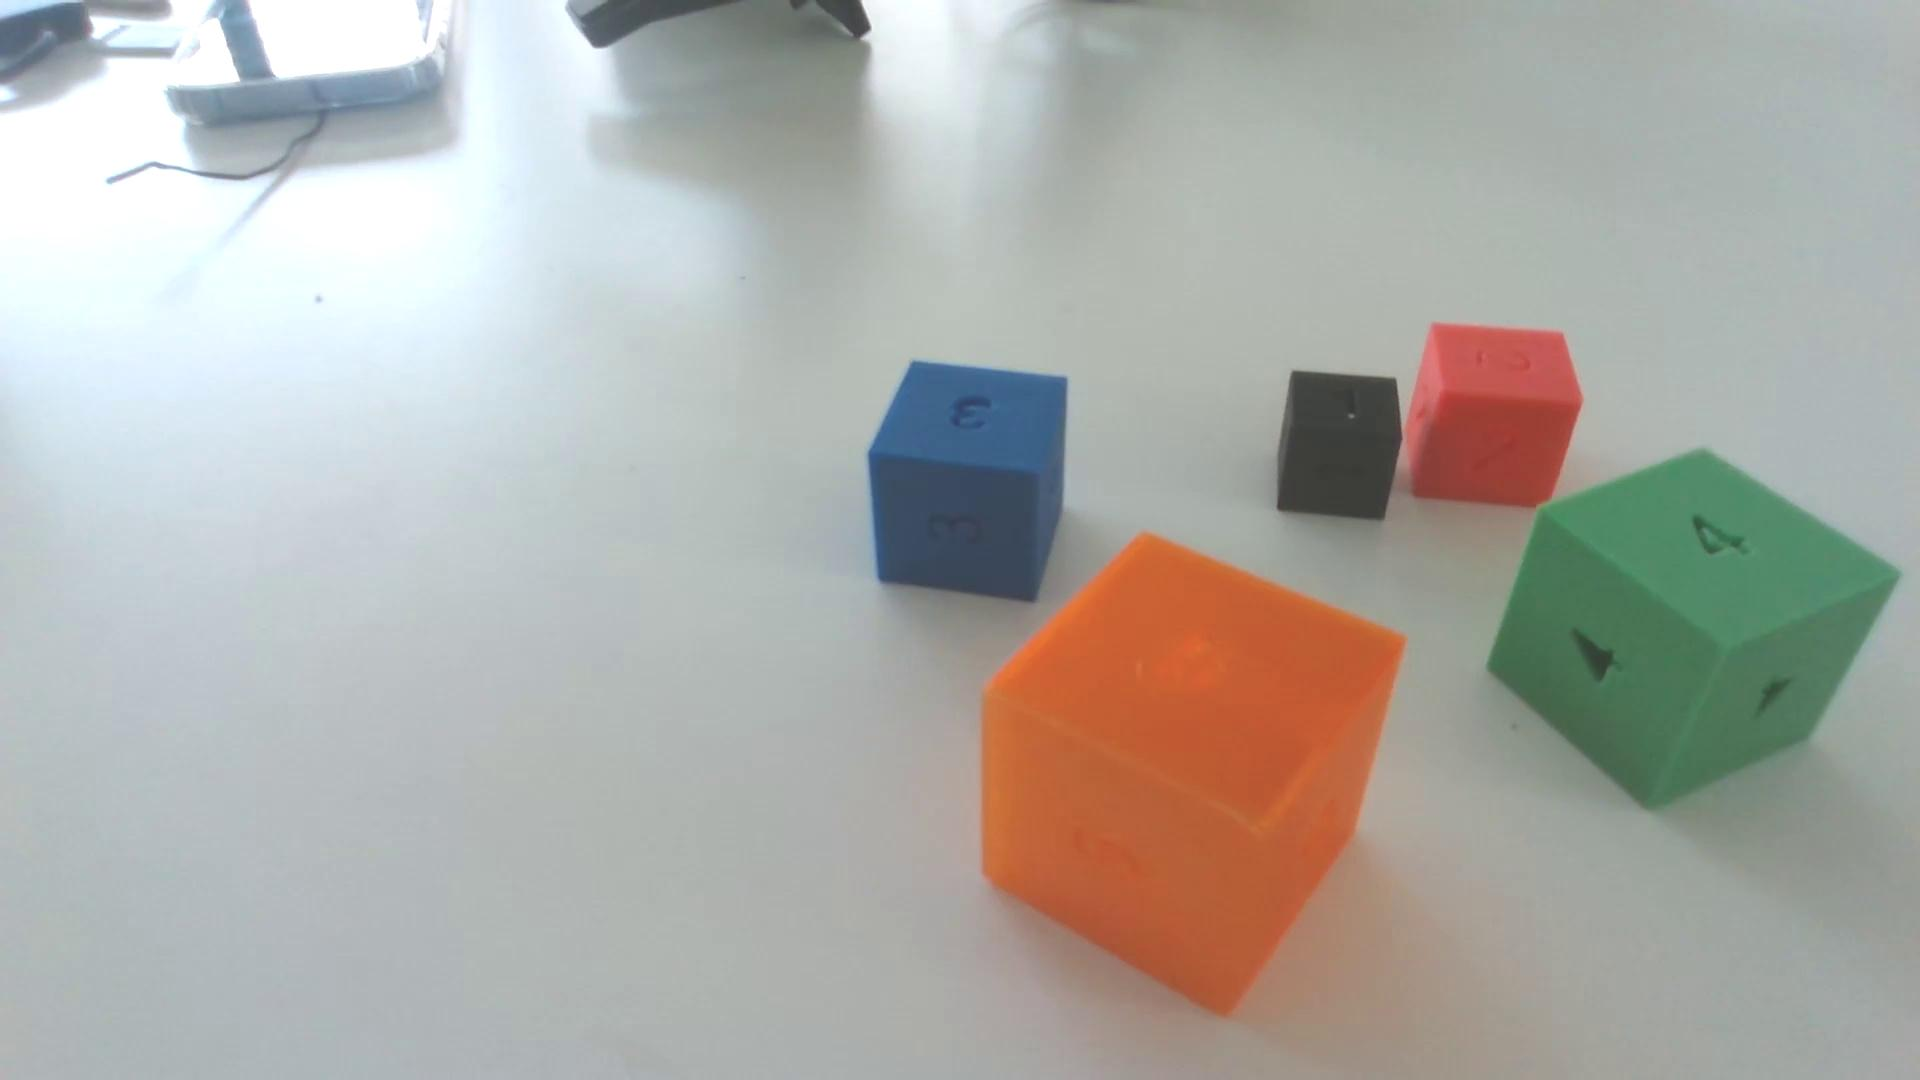black: (1276, 371, 1402, 521)
blue: (866, 363, 1068, 603)
green: (1487, 451, 1899, 808)
orange: (980, 535, 1406, 1014)
red: (1403, 324, 1582, 509)
